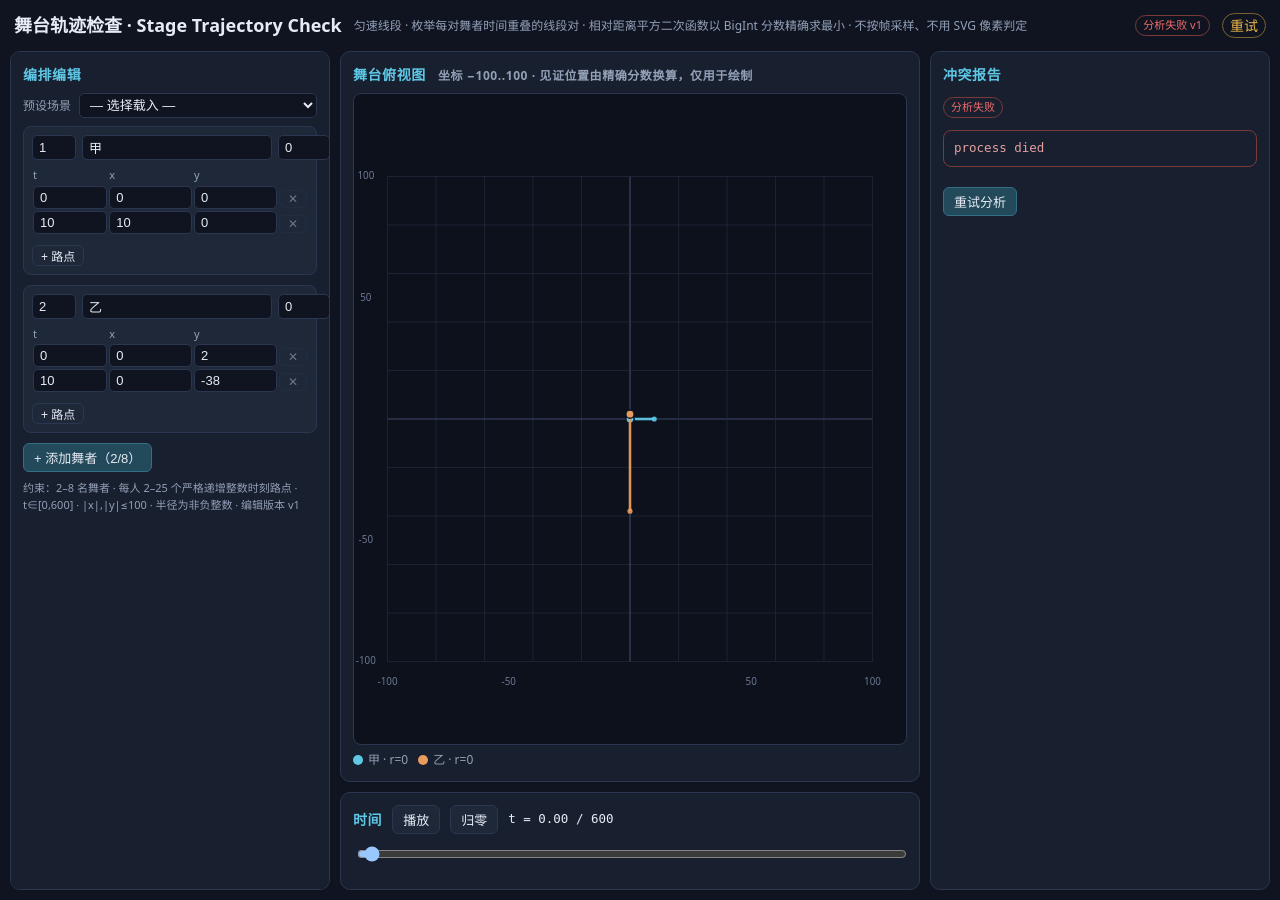
Test: App 页面集成 · 失败状态、重试与重编辑恢复（可控 Worker 计时） › Worker 进程崩溃：重建 Worker 完成重试，且不会一直卡在分析中
Click the button "重试分析" at (980, 202), box [943,187,1017,216]
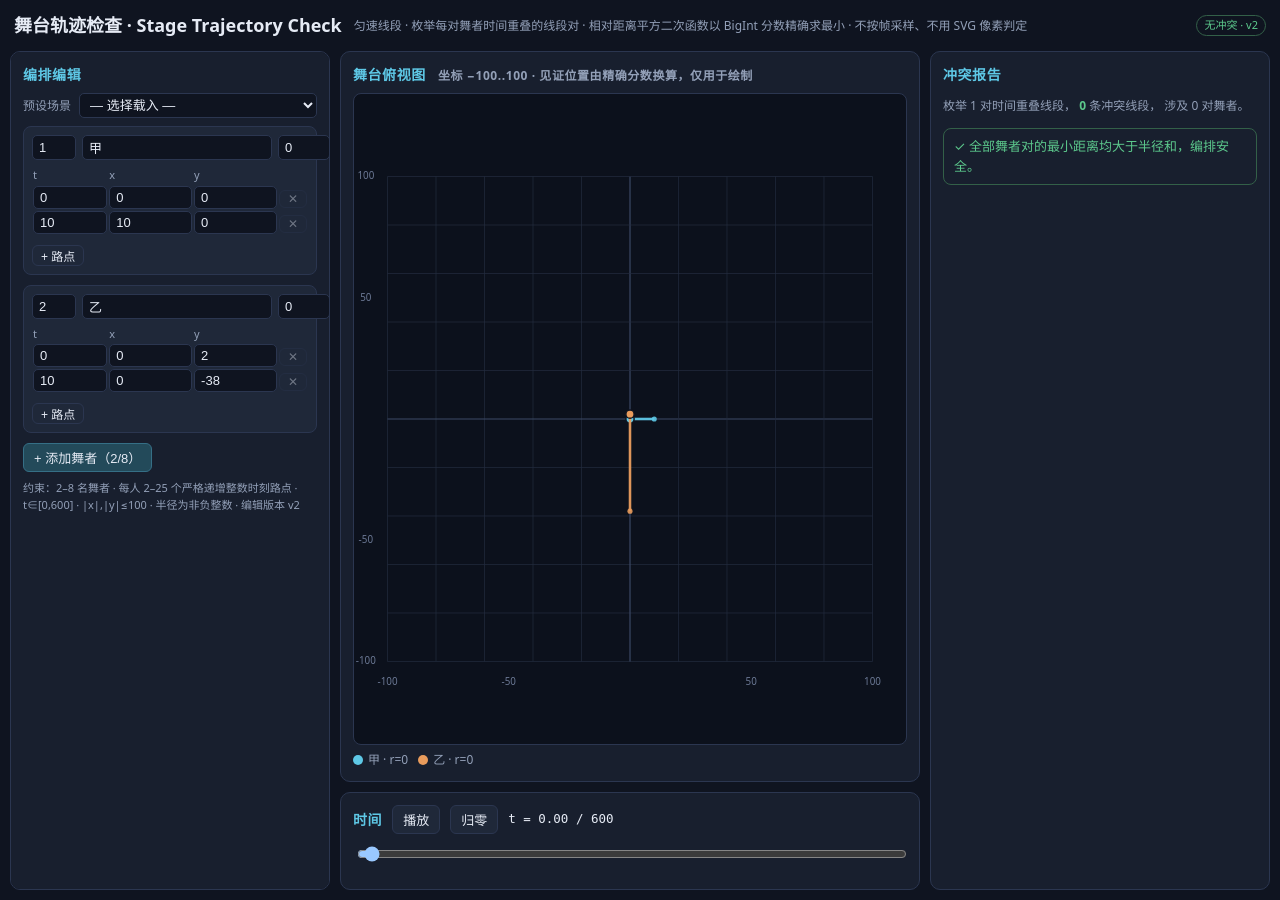
Expected: the text "无冲突" is shown, [1204,17,1258,32]
